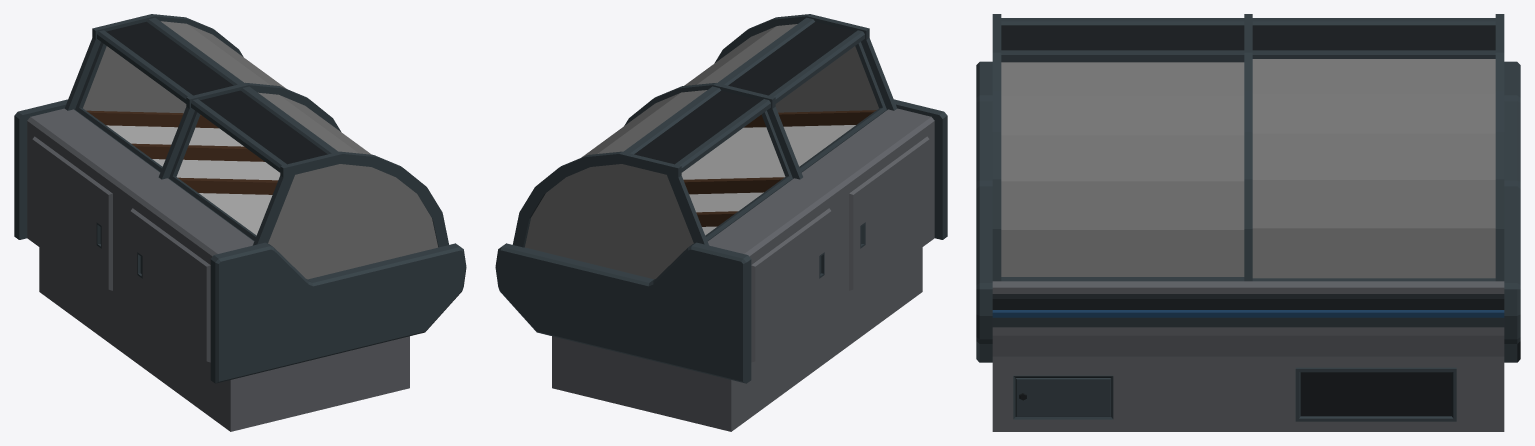
Rendered from FridgeMeat01.fbx.
The picture shows the model from 3 angles, left to right: view 1: azimuth 30°, elevation 25°; view 2: azimuth 150°, elevation 25°; view 3: azimuth 270°, elevation 25°; orthographic projection. The views are drawn at different scales.
Visible parts, largest first — view 1: FridgeMeat01, FridgeMeatDoor2, FridgeMeatDoor1; view 2: FridgeMeat01, FridgeMeatDoor2, FridgeMeatDoor1; view 3: FridgeMeat01, FridgeMeatDoor2, FridgeMeatDoor1.
Part boxes in pixels (left/top/right/bottom): FridgeMeat01: left=14, top=14, right=466, bottom=431; FridgeMeatDoor2: left=161, top=21, right=286, bottom=88; FridgeMeatDoor1: left=258, top=92, right=371, bottom=154; FridgeMeat01: left=495, top=14, right=947, bottom=431; FridgeMeatDoor2: left=581, top=90, right=706, bottom=157; FridgeMeatDoor1: left=684, top=24, right=797, bottom=85; FridgeMeat01: left=976, top=14, right=1520, bottom=431; FridgeMeatDoor2: left=1252, top=59, right=1495, bottom=278; FridgeMeatDoor1: left=1001, top=62, right=1244, bottom=276.
Bounding box in the file's own units: 158 × 150 × 221.
